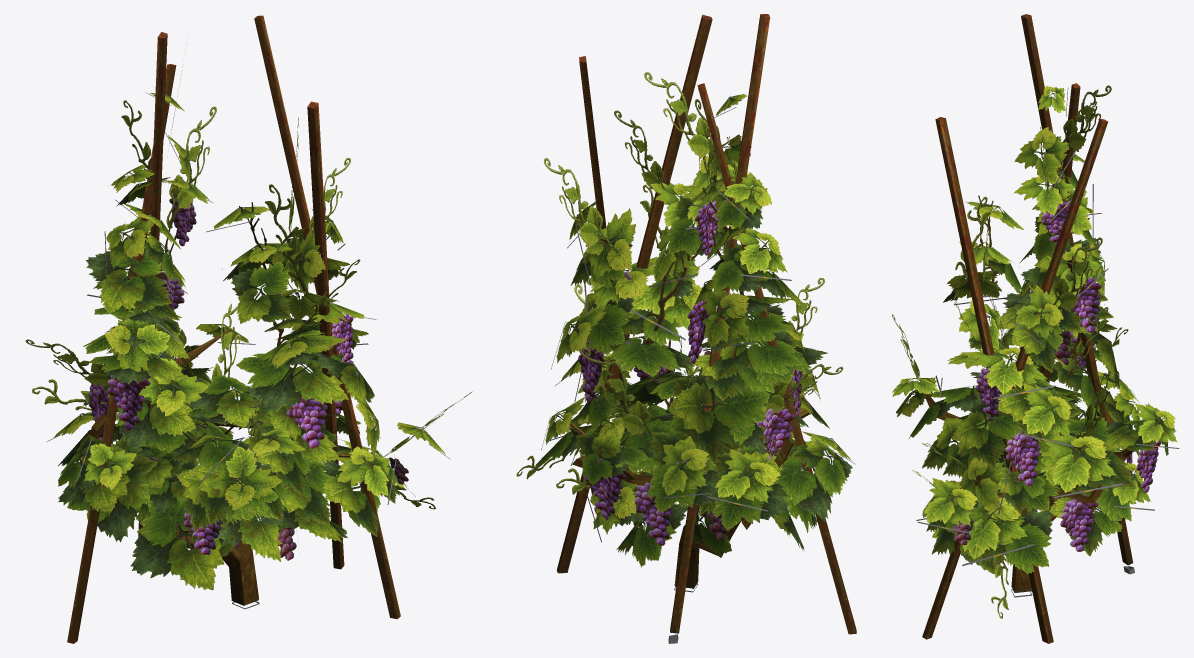
File: 1004_putao_1.FBX
3 views of the same model, side by side, from view 1: azimuth 30°, elevation 25°; view 2: azimuth 150°, elevation 25°; view 3: azimuth 270°, elevation 25° (orthographic). The views are drawn at different scales.
Visible parts, largest first — view 1: 1004_putao_1; view 2: 1004_putao_1; view 3: 1004_putao_1.
Boxes of the visible parts, bbox=[...] form: 1004_putao_1: bbox=[25, 15, 472, 643]; 1004_putao_1: bbox=[516, 14, 856, 643]; 1004_putao_1: bbox=[892, 14, 1179, 643].
Bounding box in the file's own units: 101 × 147 × 71.72.
